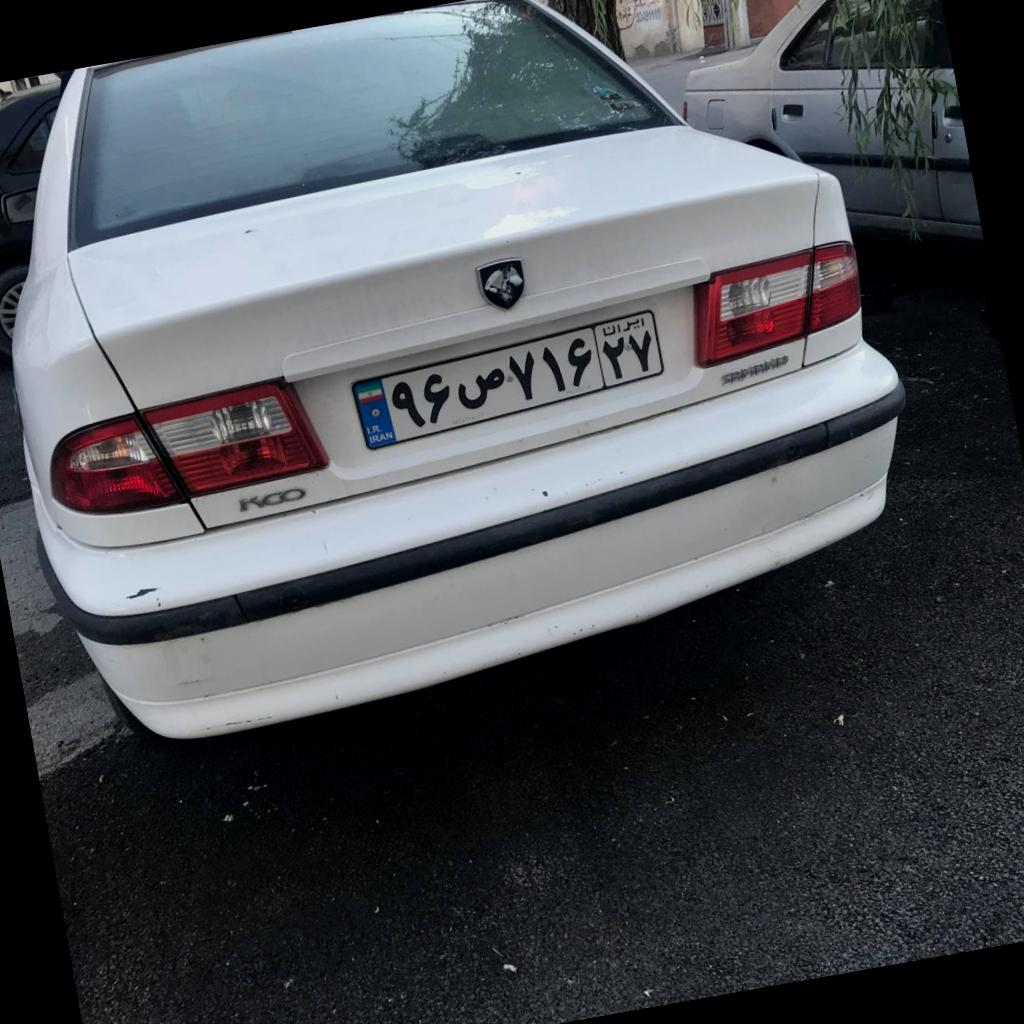Plates: (352, 310, 664, 450)
